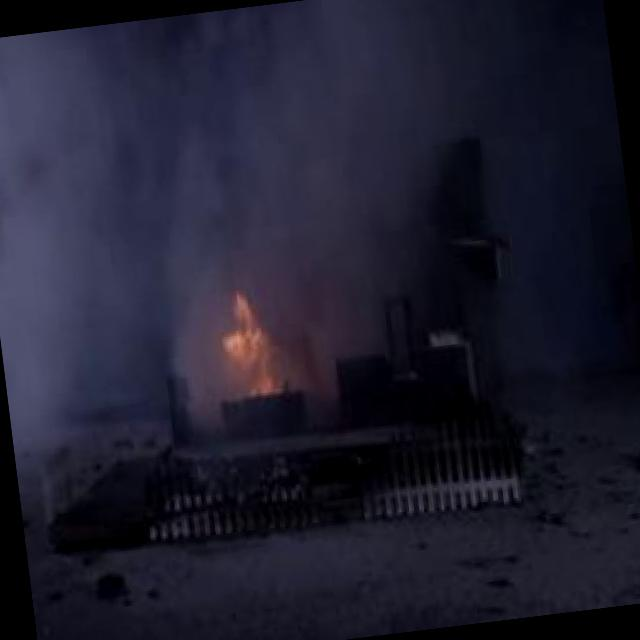fire: (192, 254, 308, 410)
smoke: (0, 0, 459, 305)
